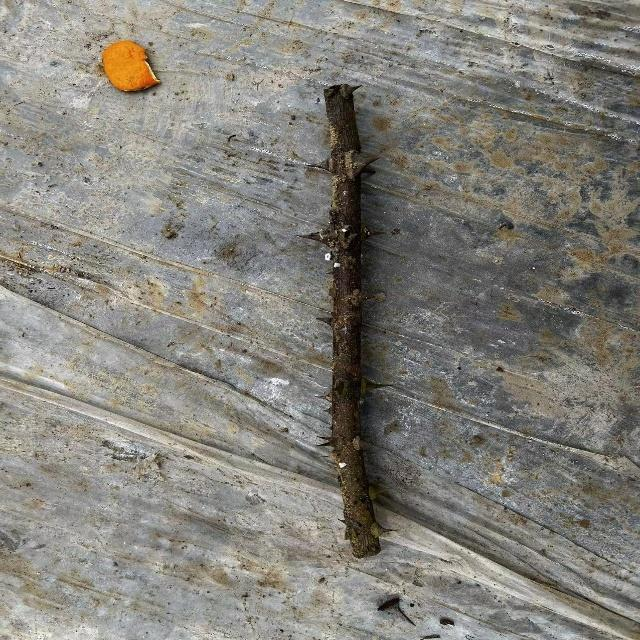branch: (319, 85, 382, 559)
